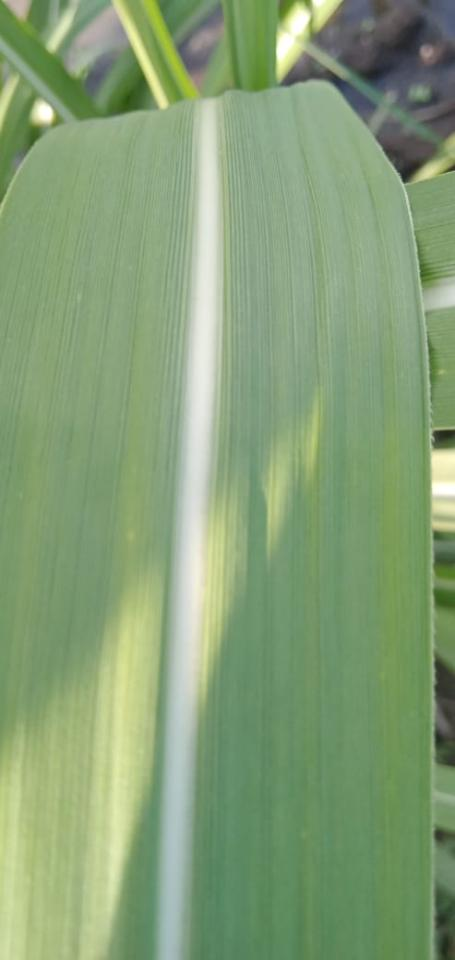Healthy: (191, 83, 432, 959), (0, 102, 195, 959), (405, 173, 454, 288), (422, 307, 454, 430)
